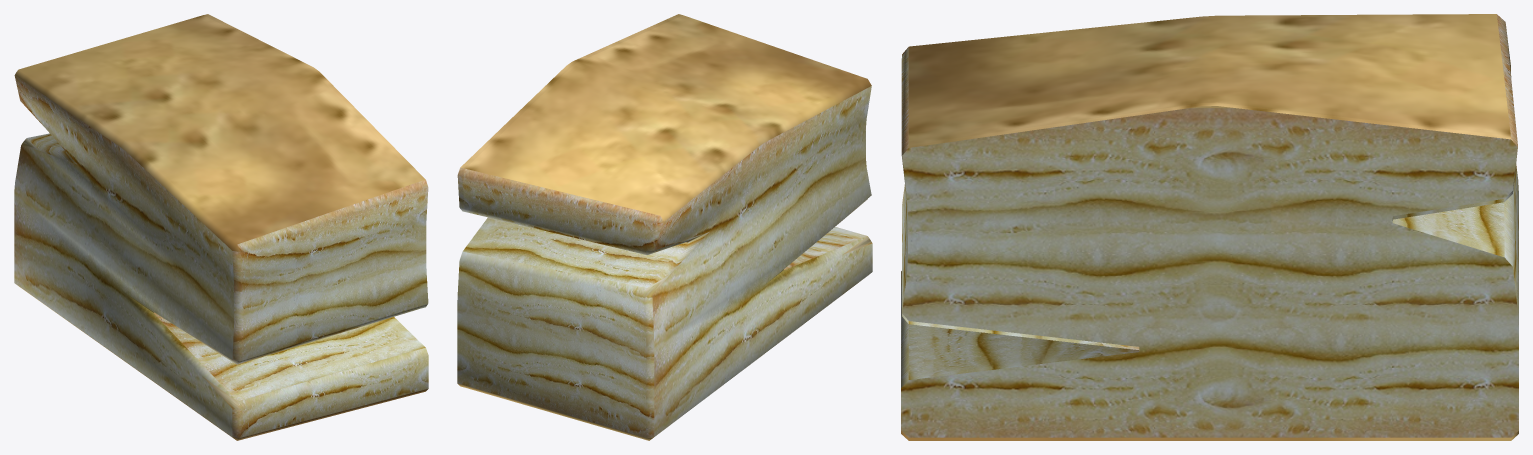
Rendered from MitadBizcochito1 (3).fbx.
The picture shows the model from 3 angles, left to right: view 1: azimuth 30°, elevation 25°; view 2: azimuth 150°, elevation 25°; view 3: azimuth 270°, elevation 25°; orthographic projection. The views are drawn at different scales.
Visible parts, largest first — view 1: BizcochitoEntero.001; view 2: BizcochitoEntero.001; view 3: BizcochitoEntero.001.
Part boxes in pixels (<box>): BizcochitoEntero.001: <box>14,14,428,440</box>; BizcochitoEntero.001: <box>457,14,872,440</box>; BizcochitoEntero.001: <box>901,14,1518,440</box>.
Size of the model in its own units: 91.96 by 111 by 180.
